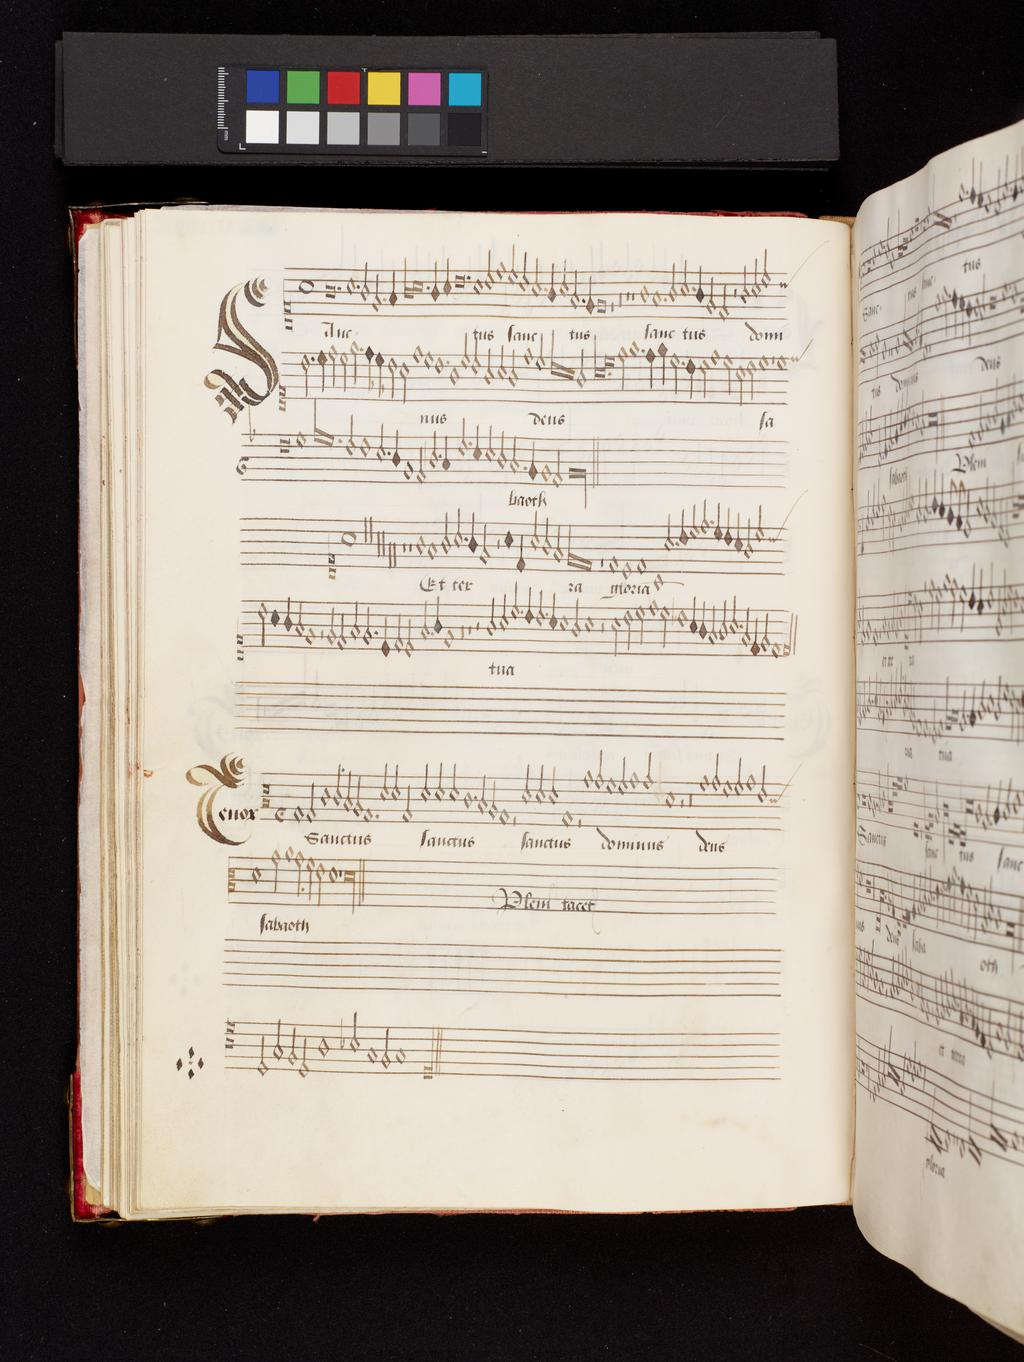barline: (356, 851, 367, 896)
c clef_7: (225, 854, 240, 906)
longa_6: (342, 862, 358, 916)
minim_3: (268, 842, 283, 896), (293, 847, 302, 898)
minim_4: (305, 851, 317, 895)
minim_5: (313, 857, 326, 908)
point: (298, 882, 307, 894)
semibreve rest: (337, 851, 345, 895)
semibreve_2: (282, 842, 296, 866)
semibreve_5: (325, 859, 338, 886)
semibreve_6: (248, 859, 264, 891)
